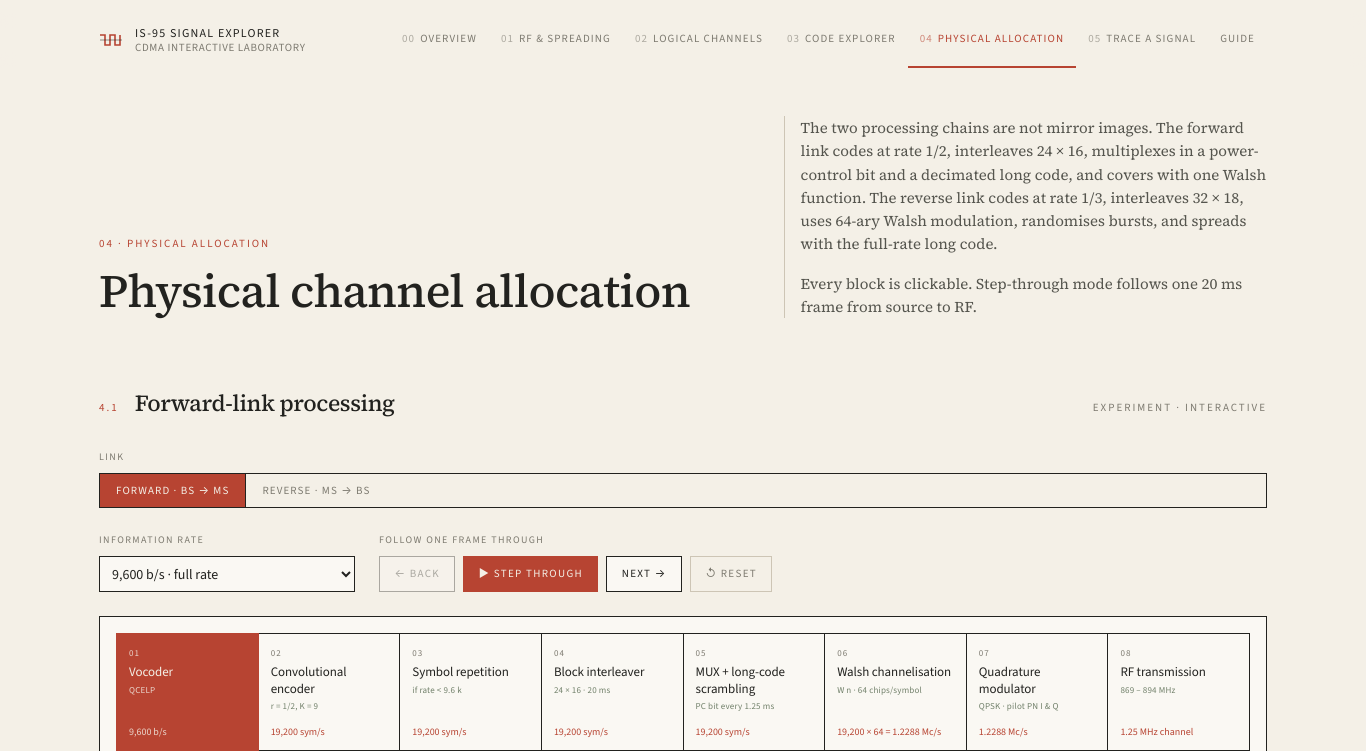
it: interactive controls › switches the pipeline between forward and reverse
This screenshot has width=1366, height=751.
Click the button "Reverse · MS → BS": click(316, 490) [246, 474, 386, 507]
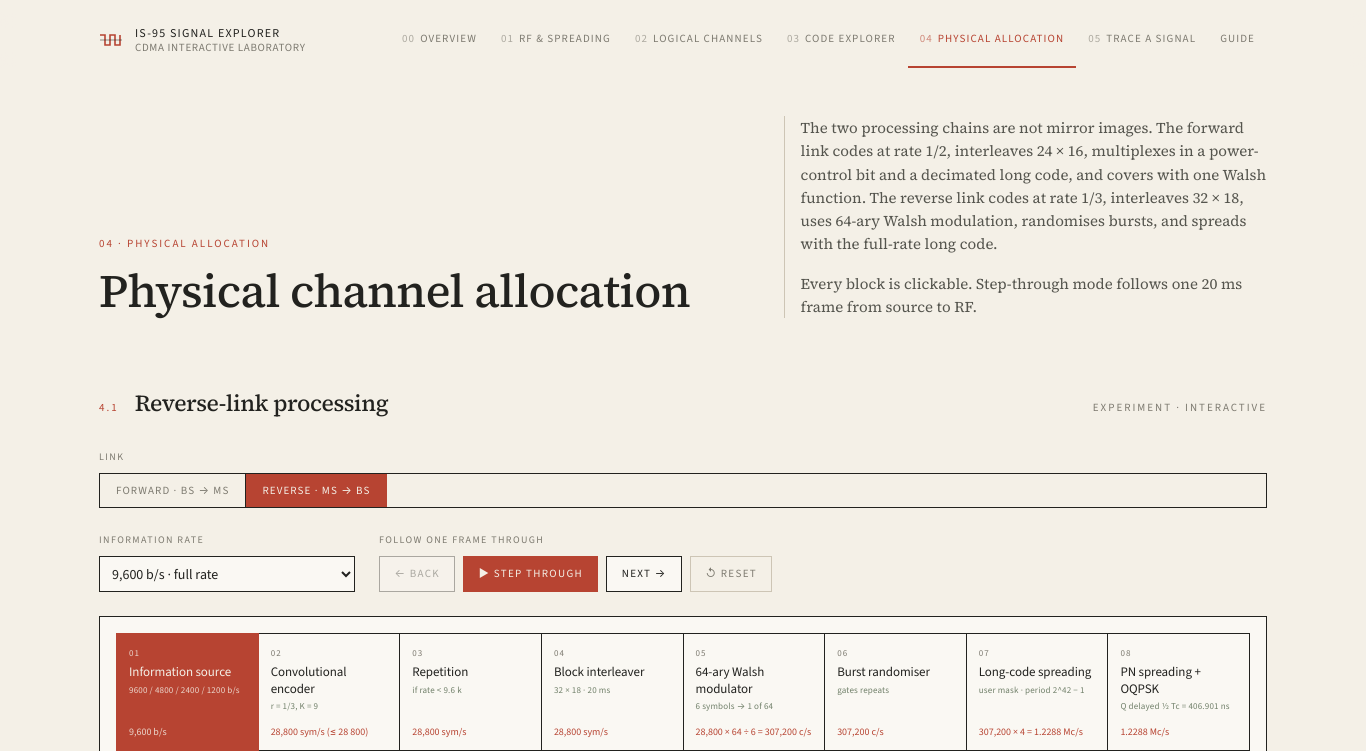
Expected: the text "Reverse-link processing" is shown, [135, 390, 388, 416]
Expected: the text "Burst randomiser" is shown, [837, 664, 930, 681]
